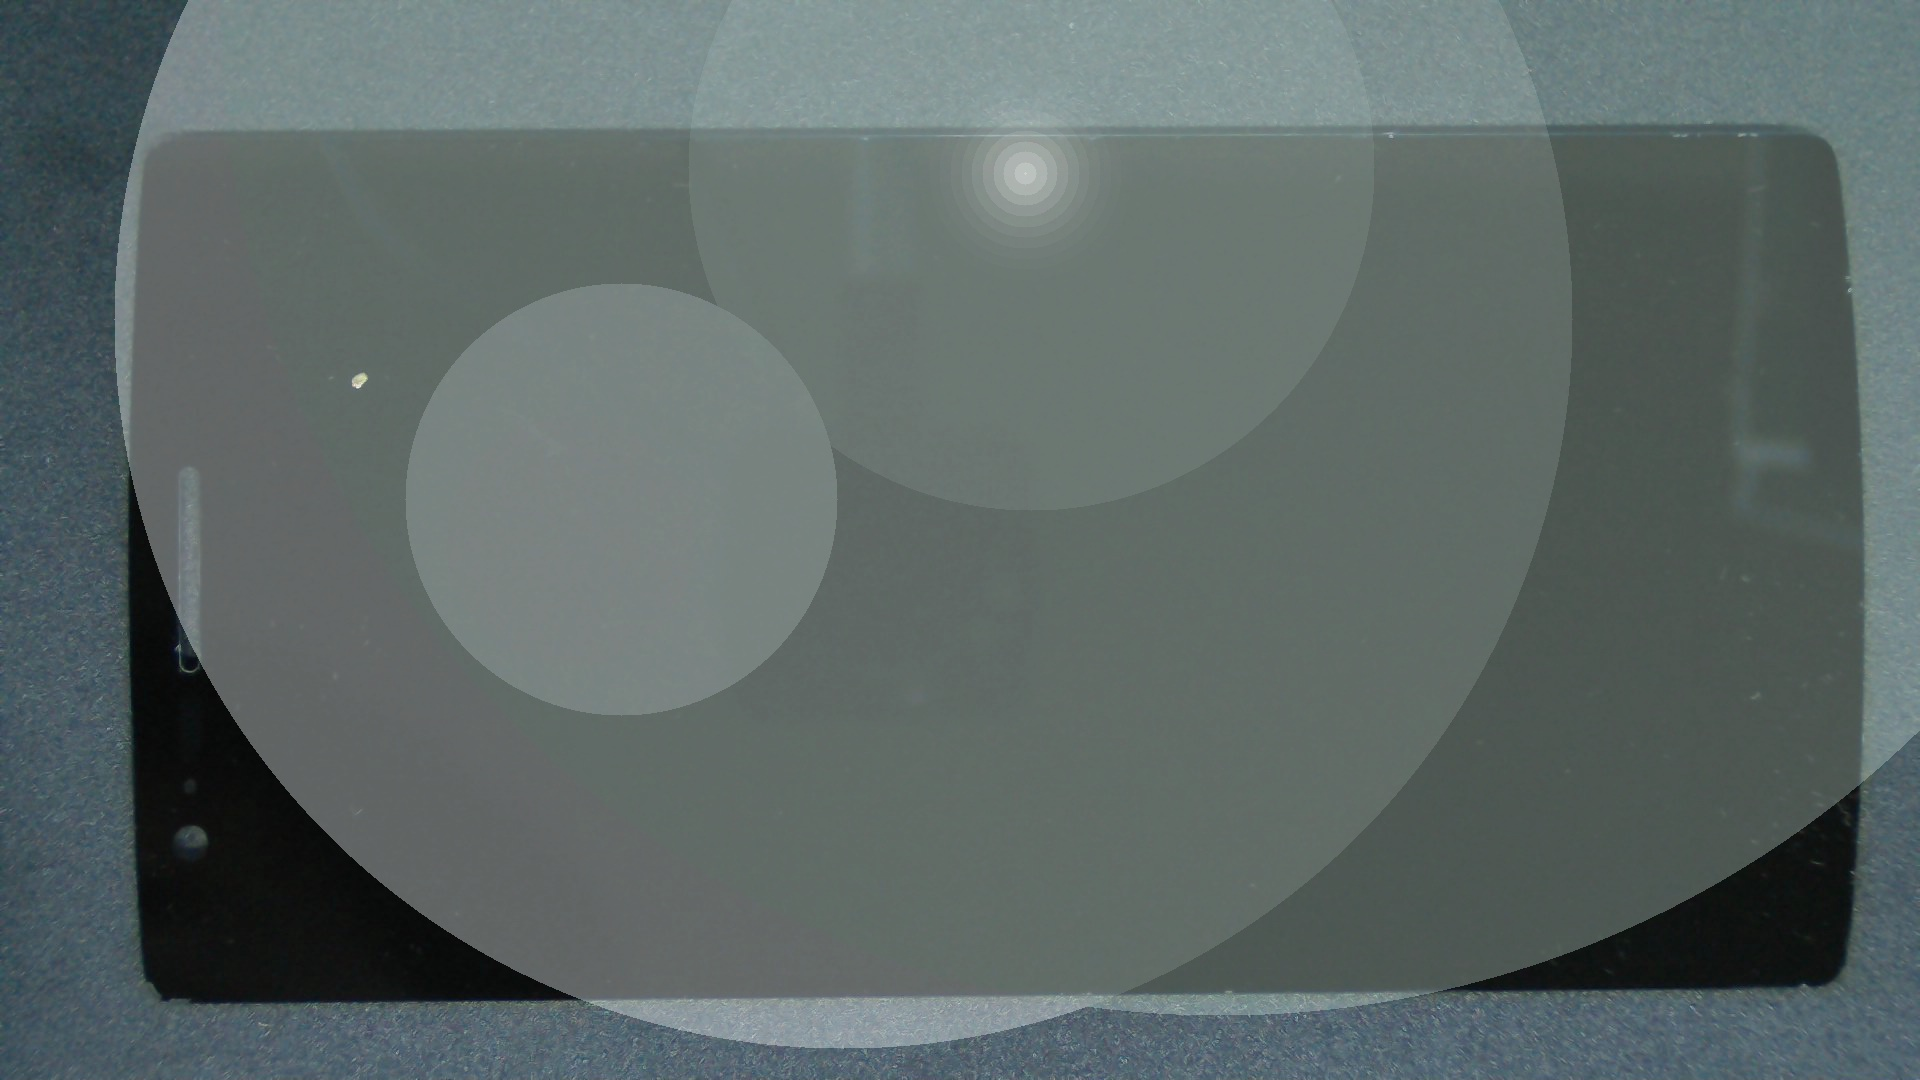oil: (179, 185, 535, 558)
